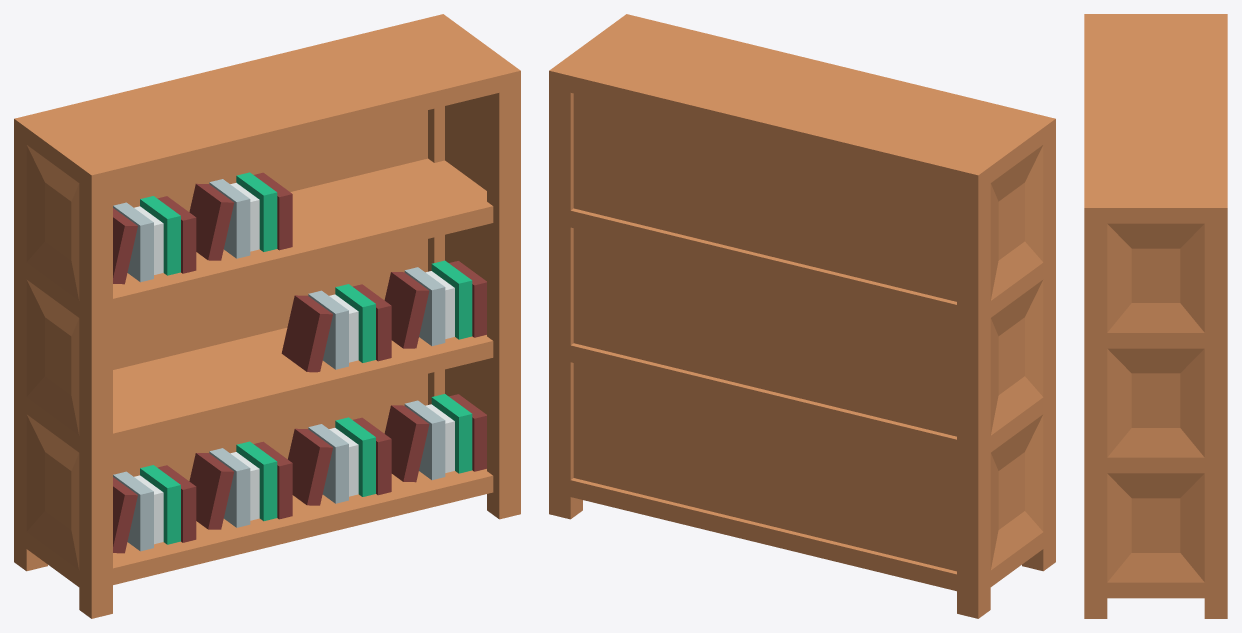
The model's file is bookshelf.gltf.
The picture shows the model from 3 angles, left to right: view 1: azimuth 30°, elevation 25°; view 2: azimuth 150°, elevation 25°; view 3: azimuth 270°, elevation 25°; orthographic projection. The views are drawn at different scales.
Parts seen in each view (by area): view 1: bookcaseClosedWide, books.004, books.003, books.009, books.001, books.002, books.005, books, books.008; view 2: bookcaseClosedWide; view 3: bookcaseClosedWide.
Part boxes in pixels (x1,y1,x2,y2): bookcaseClosedWide: [14, 14, 520, 618]; books.004: [281, 284, 391, 372]; books.003: [288, 417, 391, 505]; books.009: [189, 172, 292, 260]; books.001: [189, 441, 292, 529]; books.002: [384, 394, 486, 482]; books.005: [384, 260, 486, 348]; books: [113, 465, 196, 553]; books.008: [113, 196, 196, 284]; bookcaseClosedWide: [549, 14, 1055, 618]; bookcaseClosedWide: [1084, 14, 1227, 618].
Size of the model in its own units: 0.8 by 0.79 by 0.25.
